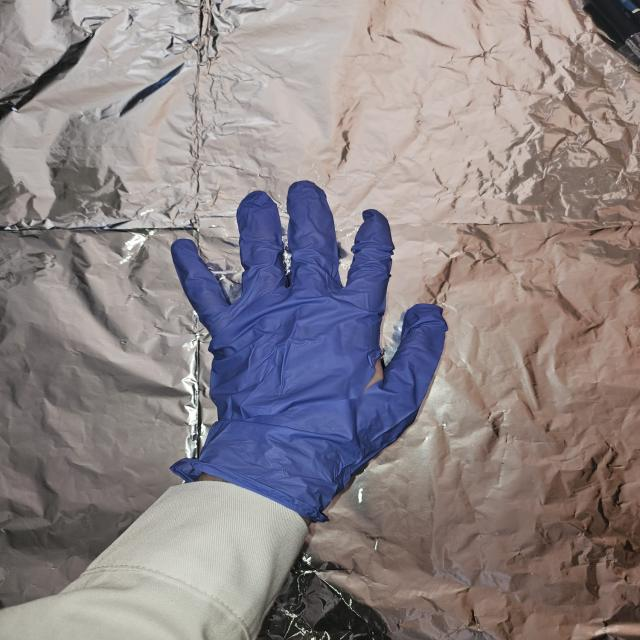gloves_damaged: (167, 179, 453, 515)
